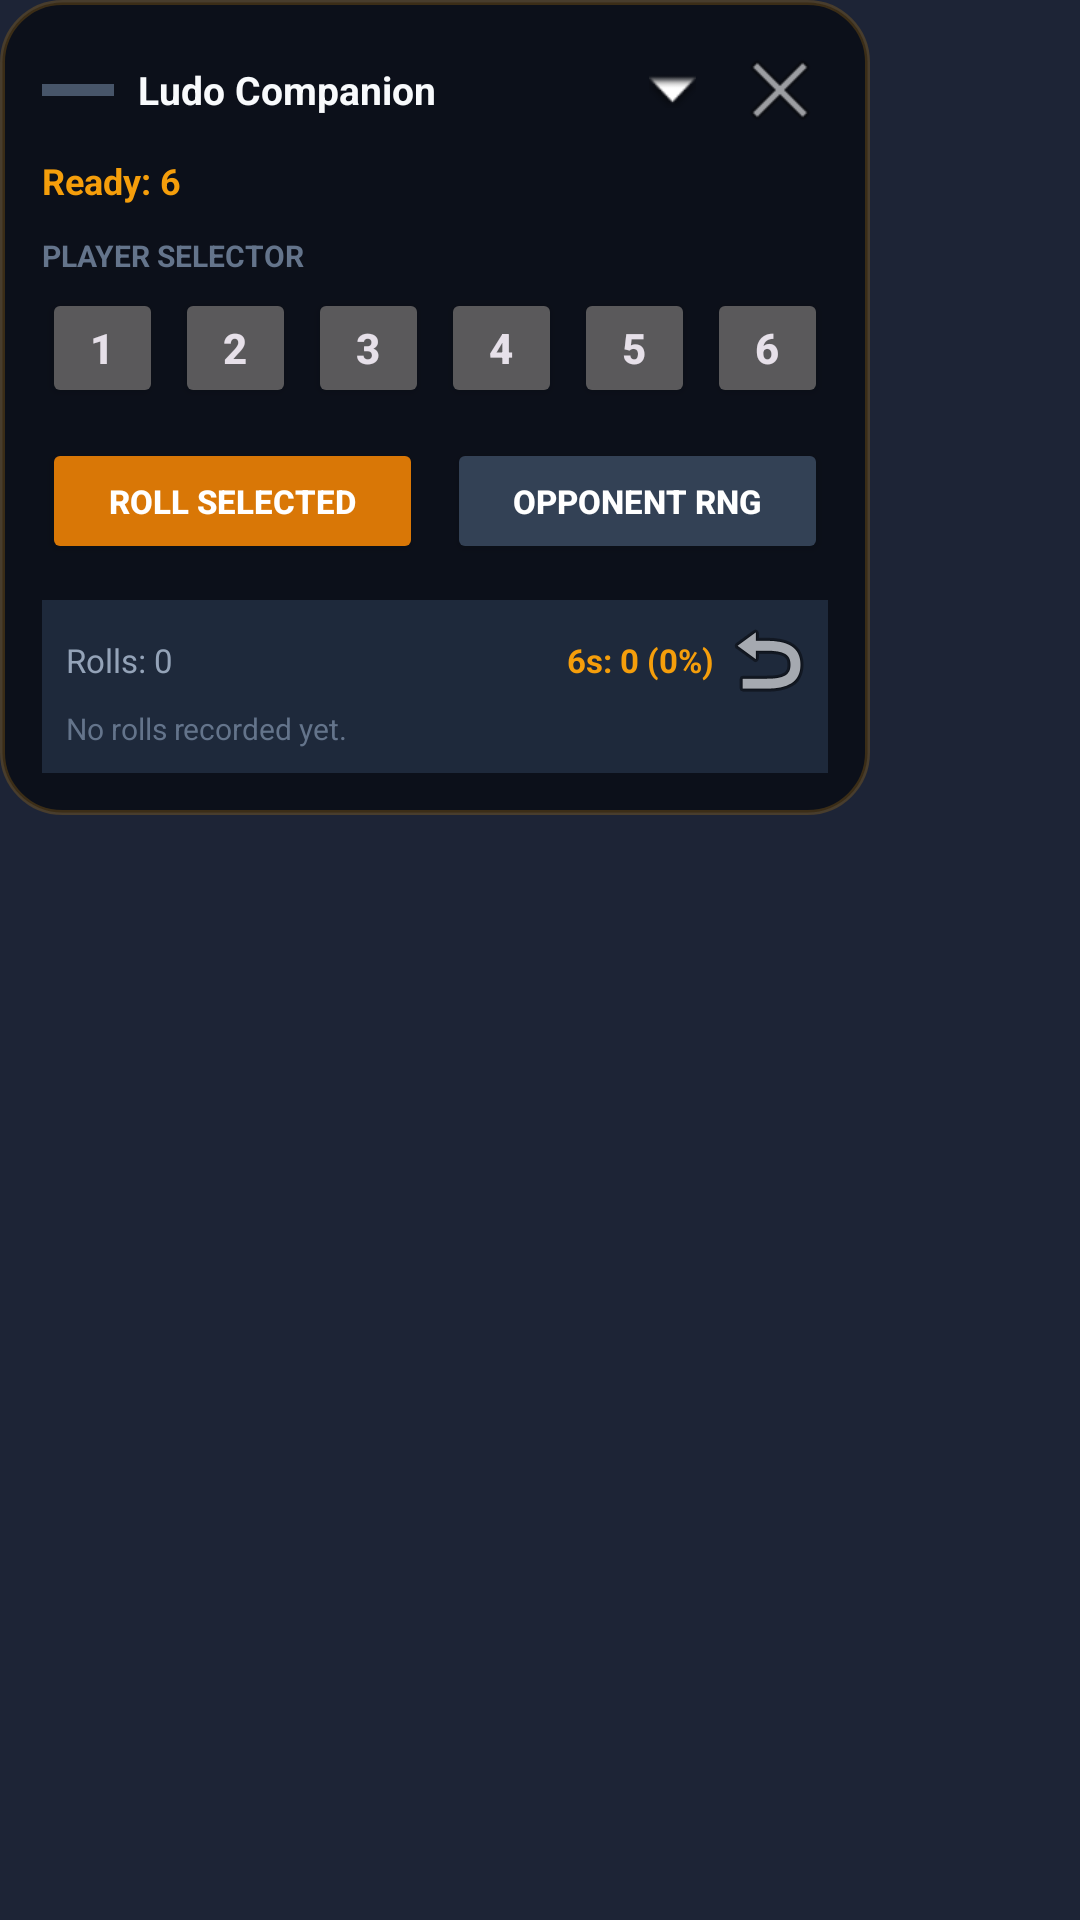

Named icons in this screenshot (1080×1920) and their centers, [x,y]:
Close Overlay: [780,90]
Minimize Overlay: [672,90]
Reset History: [769,660]
